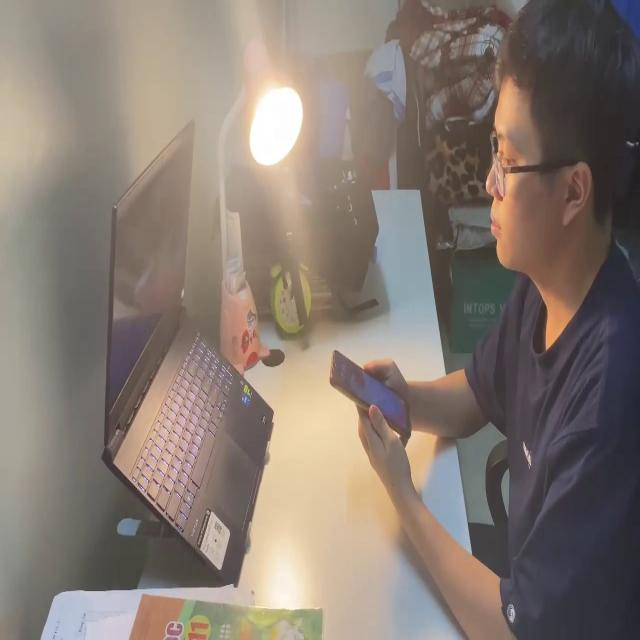book: (35, 583, 323, 640)
laptop: (102, 110, 275, 581)
phone: (325, 340, 412, 448)
student: (350, 0, 640, 640)
